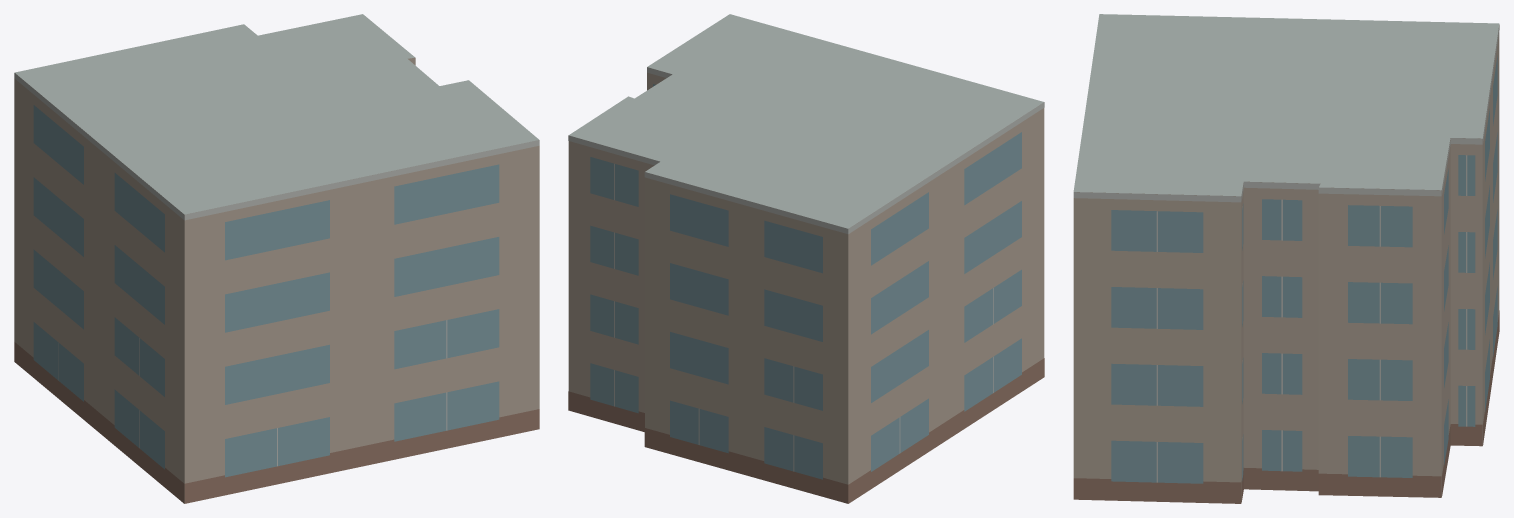
The model's file is survey-upis-33046999.glb.
3 renders of one model, left to right at view 1: azimuth 30°, elevation 25°; view 2: azimuth 150°, elevation 25°; view 3: azimuth 270°, elevation 25°, orthographic. The views are drawn at different scales.
Visible parts, largest first — view 1: survey-upis-33046999.tmp; view 2: survey-upis-33046999.tmp; view 3: survey-upis-33046999.tmp.
Part boxes in pixels (box(x1,y1,x2,y2)): survey-upis-33046999.tmp: box(14, 14, 539, 503); survey-upis-33046999.tmp: box(568, 14, 1044, 503); survey-upis-33046999.tmp: box(1073, 14, 1499, 503).
Size of the model in its own units: 15.51 by 12.2 by 15.32.
